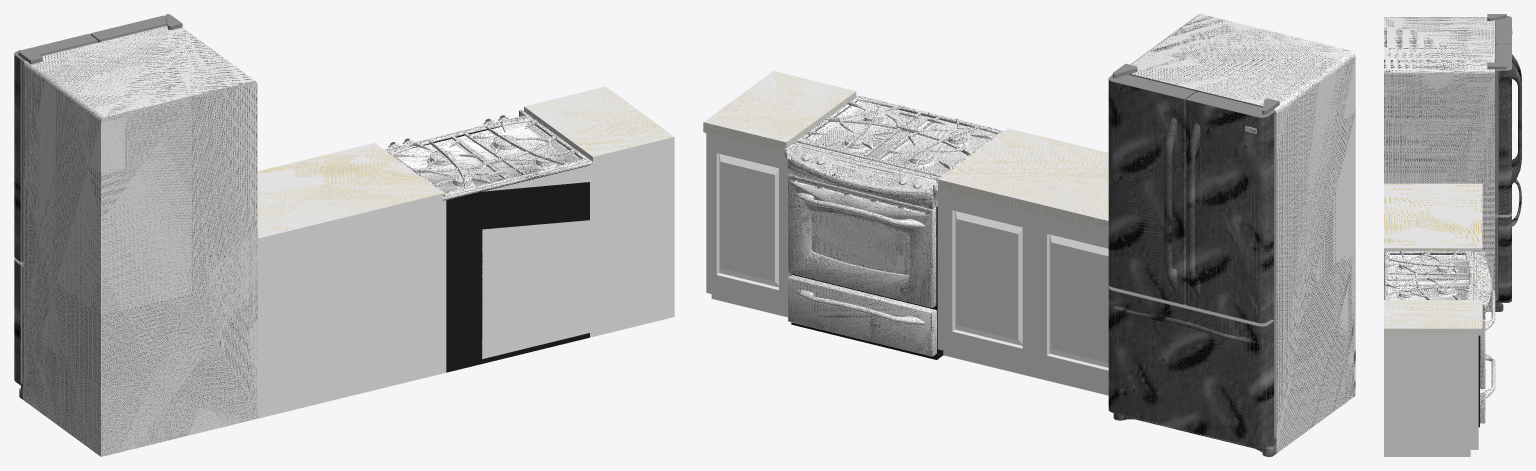
3 renders of one model, left to right at view 1: azimuth 30°, elevation 25°; view 2: azimuth 150°, elevation 25°; view 3: azimuth 270°, elevation 25°, orthographic. The views are drawn at different scales.
Visible parts, largest first — view 1: mesh1_mesh1-geometry, mesh282_mesh282-geometry, mesh142_mesh142-geometry, mesh113_mesh113-geometry, mesh37_mesh37-geometry, mesh154_mesh154-geometry, mesh182_mesh182-geometry, mesh30_mesh30-geometry, mesh23_mesh23-geometry, mesh47_mesh47-geometry; view 2: mesh282_mesh282-geometry, mesh1_mesh1-geometry, mesh30_mesh30-geometry, mesh37_mesh37-geometry, mesh23_mesh23-geometry, mesh116_mesh116-geometry, mesh117_mesh117-geometry, mesh134_mesh134-geometry, mesh113_mesh113-geometry, mesh175_mesh175-geometry, mesh154_mesh154-geometry, mesh182_mesh182-geometry (+4 smaller); view 3: mesh282_mesh282-geometry, mesh1_mesh1-geometry, mesh23_mesh23-geometry, mesh113_mesh113-geometry, mesh30_mesh30-geometry, mesh182_mesh182-geometry, mesh134_mesh134-geometry, mesh154_mesh154-geometry, mesh44_mesh44-geometry, mesh22_mesh22-geometry, mesh175_mesh175-geometry, mesh116_mesh116-geometry (+9 smaller).
Part boxes in pixels (bbox=[...]): mesh1_mesh1-geometry: bbox=[23, 26, 257, 456]; mesh282_mesh282-geometry: bbox=[257, 86, 674, 418]; mesh142_mesh142-geometry: bbox=[414, 122, 589, 372]; mesh113_mesh113-geometry: bbox=[394, 121, 585, 196]; mesh37_mesh37-geometry: bbox=[14, 34, 98, 262]; mesh154_mesh154-geometry: bbox=[457, 115, 589, 179]; mesh182_mesh182-geometry: bbox=[385, 133, 517, 196]; mesh30_mesh30-geometry: bbox=[14, 258, 23, 385]; mesh23_mesh23-geometry: bbox=[90, 15, 166, 42]; mesh47_mesh47-geometry: bbox=[21, 41, 98, 261]; mesh282_mesh282-geometry: bbox=[703, 71, 1109, 395]; mesh1_mesh1-geometry: bbox=[1130, 14, 1355, 453]; mesh30_mesh30-geometry: bbox=[1108, 286, 1273, 448]; mesh37_mesh37-geometry: bbox=[1186, 92, 1273, 323]; mesh23_mesh23-geometry: bbox=[1108, 75, 1193, 304]; mesh116_mesh116-geometry: bbox=[788, 174, 936, 307]; mesh117_mesh117-geometry: bbox=[788, 275, 936, 356]; mesh134_mesh134-geometry: bbox=[784, 143, 938, 209]; mesh113_mesh113-geometry: bbox=[805, 100, 996, 177]; mesh175_mesh175-geometry: bbox=[795, 193, 925, 324]; mesh154_mesh154-geometry: bbox=[796, 95, 930, 159]; mesh182_mesh182-geometry: bbox=[869, 113, 1003, 177]; mesh282_mesh282-geometry: bbox=[1384, 183, 1482, 456]; mesh1_mesh1-geometry: bbox=[1384, 17, 1494, 311]; mesh23_mesh23-geometry: bbox=[1498, 43, 1511, 214]; mesh113_mesh113-geometry: bbox=[1387, 254, 1468, 299]; mesh30_mesh30-geometry: bbox=[1498, 213, 1511, 302]; mesh182_mesh182-geometry: bbox=[1384, 250, 1471, 276]; mesh134_mesh134-geometry: bbox=[1473, 251, 1491, 319]; mesh154_mesh154-geometry: bbox=[1384, 275, 1471, 299]; mesh44_mesh44-geometry: bbox=[1495, 44, 1498, 213]; mesh22_mesh22-geometry: bbox=[1512, 62, 1521, 184]; mesh175_mesh175-geometry: bbox=[1485, 289, 1495, 398]; mesh116_mesh116-geometry: bbox=[1480, 320, 1485, 388].
Bounding box in the file's own units: 0.8419 × 0.4806 × 0.2455.
